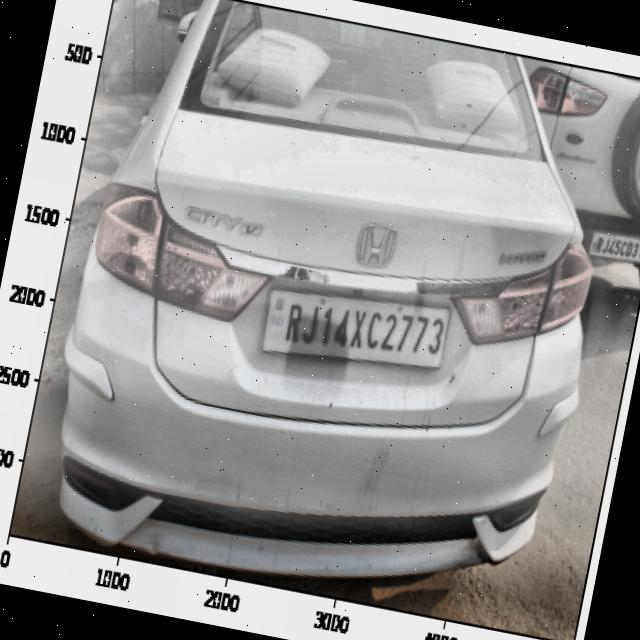license_plate: (272, 284, 452, 379)
